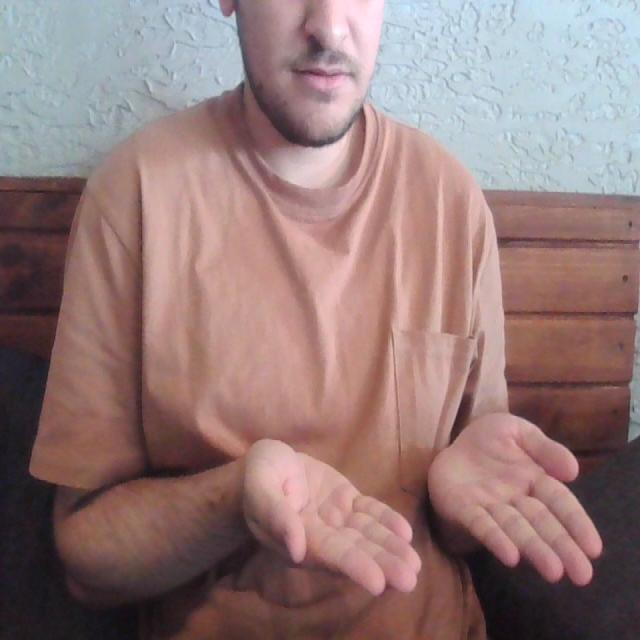Evet: (234, 406, 605, 616)
